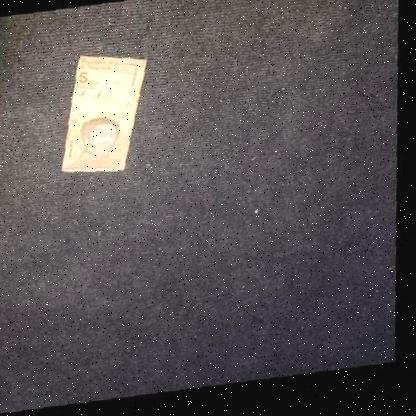five-front-vef: (62, 52, 147, 177)
